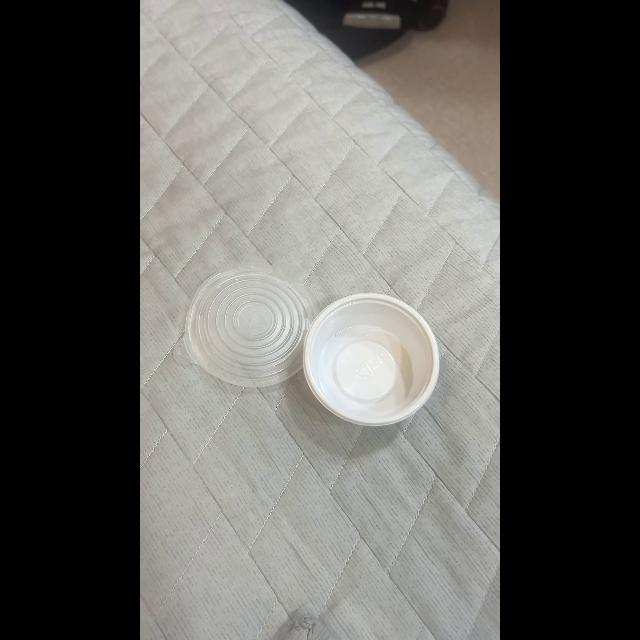clean: (302, 294, 440, 422), (185, 269, 317, 387)
